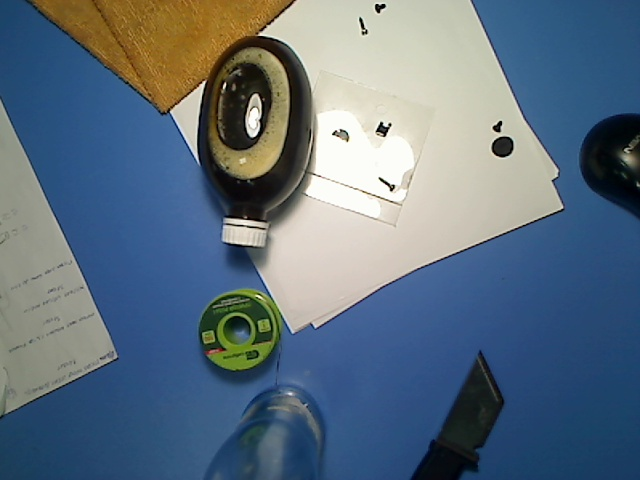plast_bottle: (195, 32, 316, 251)
